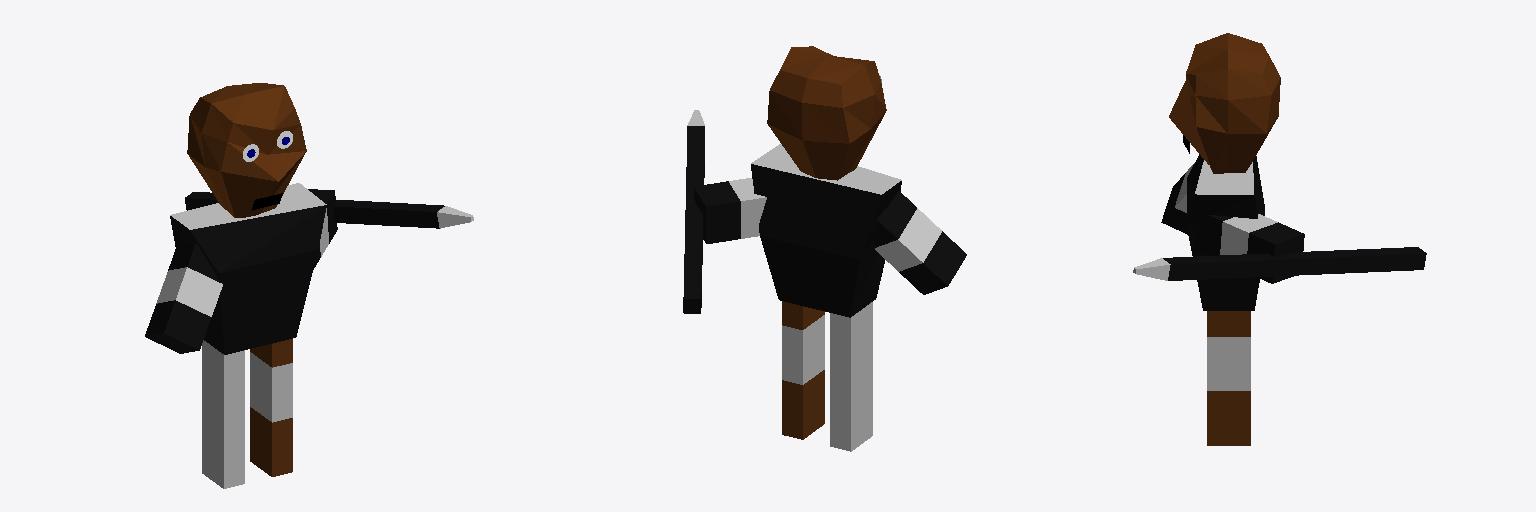
The model's file is spearman1f.obj.
3 renders of one model, left to right at view 1: azimuth 30°, elevation 25°; view 2: azimuth 150°, elevation 25°; view 3: azimuth 270°, elevation 25°, orthographic.
Parts seen in each view (by area): view 1: Cube.001, Cube, Cube.004, Cube.005, Cube.003, Cube.007, Cube.002; view 2: Cube.001, Cube, Cube.004, Cube.005, Cube.003, Cube.002, Cube.007; view 3: Cube, Cube.007, Cube.005, Cube.001, Cube.002, Cube.003.
Part boxes in pixels (bbox=[...]): Cube.001: bbox=[170, 183, 326, 354]; Cube: bbox=[187, 83, 306, 217]; Cube.004: bbox=[202, 340, 244, 488]; Cube.005: bbox=[250, 339, 292, 476]; Cube.003: bbox=[145, 242, 223, 353]; Cube.007: bbox=[185, 192, 473, 228]; Cube.002: bbox=[308, 189, 337, 269]; Cube.001: bbox=[751, 144, 901, 317]; Cube: bbox=[767, 46, 886, 180]; Cube.004: bbox=[830, 302, 872, 451]; Cube.005: bbox=[782, 301, 824, 439]; Cube.003: bbox=[875, 191, 966, 294]; Cube.002: bbox=[694, 178, 766, 243]; Cube.007: bbox=[683, 110, 704, 313]; Cube: bbox=[1169, 33, 1280, 173]; Cube.007: bbox=[1133, 247, 1426, 280]; Cube.005: bbox=[1207, 311, 1250, 445]; Cube.001: bbox=[1187, 154, 1264, 310]; Cube.002: bbox=[1193, 214, 1304, 283]; Cube.003: bbox=[1161, 163, 1194, 234].
Bounding box in the file's own units: 4.72 × 5.86 × 4.11.